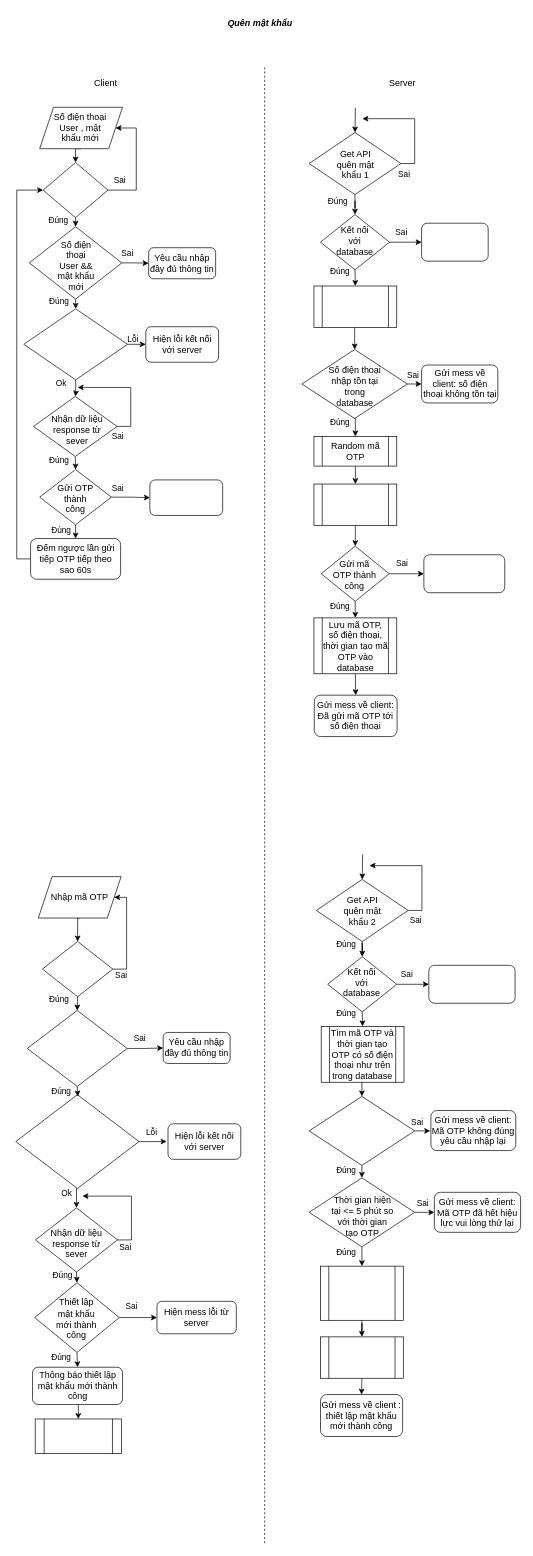
The diagram is 533 pixels wide and 1556 high, and some of its shapes have lost their labels. Here are the shapes that lost their labels. From the top down, the centre of each, then its label:
point (75, 190): Gửi mã OTP
point (454, 242): Gửi mess về client: lỗi kết nối với database
point (355, 306): Tìm số điện thoại trong databse
point (75, 344): Post API quên mật khẩu 1 kèm số điện thoại user
point (186, 497): Hiện lỗi gửi OTP
point (355, 504): Gửi mã OTP tới số điện thoại đó
point (464, 573): Gửi mess trạng thái gửi lỗi về client
point (77, 969): Xác nhận
point (471, 984): Gửi mess về client: lỗi kết nối với database về client
point (77, 1048): Số điện thoại User && mật khẩu mới && OTP
point (77, 1141): Post API quên mật khẩu 2 kèm số điện thoại user , mật khẩu mới, mã OTP
point (361, 1130): Mã OTP nhập == mã OTP trong databse
point (361, 1292): Cập nhật mật khẩu mới cho tài khoản trùng số điện thoại trong database
point (361, 1357): Xóa thông tin mã OTP đó trong database
point (77, 1435): Màn hình đăng nhập
